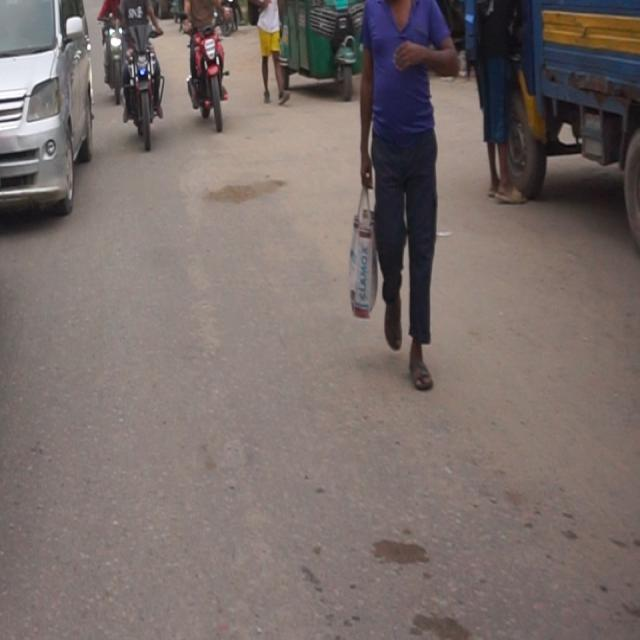car: (0, 0, 111, 250), (0, 0, 14, 582)
motorbike: (98, 0, 187, 183), (178, 0, 235, 132)
rickshaw: (274, 0, 385, 104)
van: (472, 0, 640, 220)
